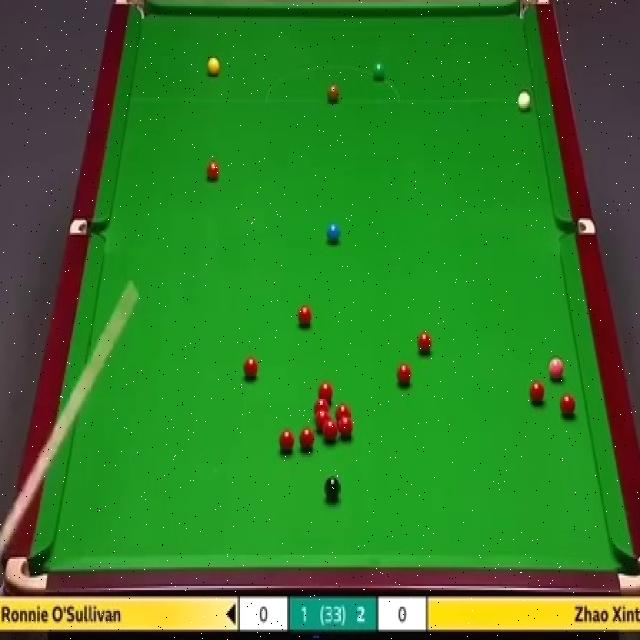black-ball: (323, 476, 341, 498)
blue-ball: (328, 222, 340, 243)
brown-ball: (326, 84, 339, 104)
green-ball: (373, 59, 385, 81)
pink-ball: (547, 357, 566, 381)
red-ball: (278, 428, 296, 453), (559, 392, 576, 417), (530, 378, 545, 405), (297, 304, 313, 329), (416, 331, 432, 354), (339, 414, 353, 440), (396, 362, 411, 386), (243, 355, 258, 378), (323, 419, 338, 442), (300, 427, 314, 451), (318, 380, 332, 403), (205, 162, 220, 182), (335, 402, 352, 419), (313, 398, 329, 416), (316, 410, 329, 431)
white-ball: (516, 90, 530, 112)
yellow-ball: (207, 57, 219, 79)
